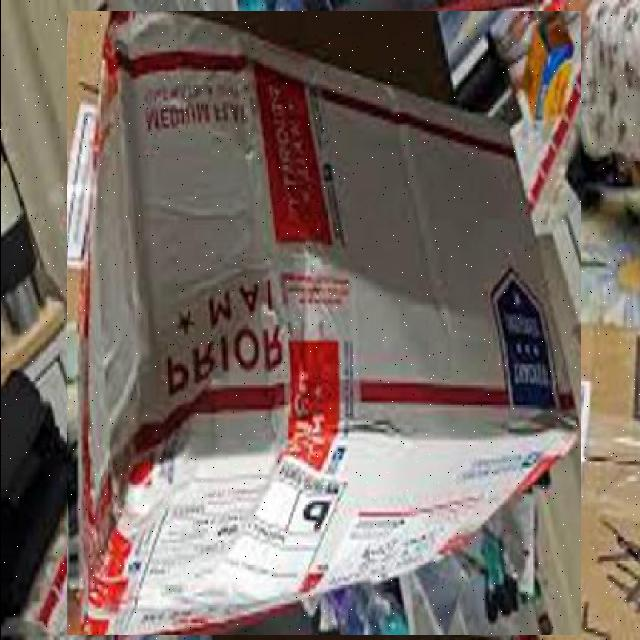defect: (66, 11, 580, 635)
